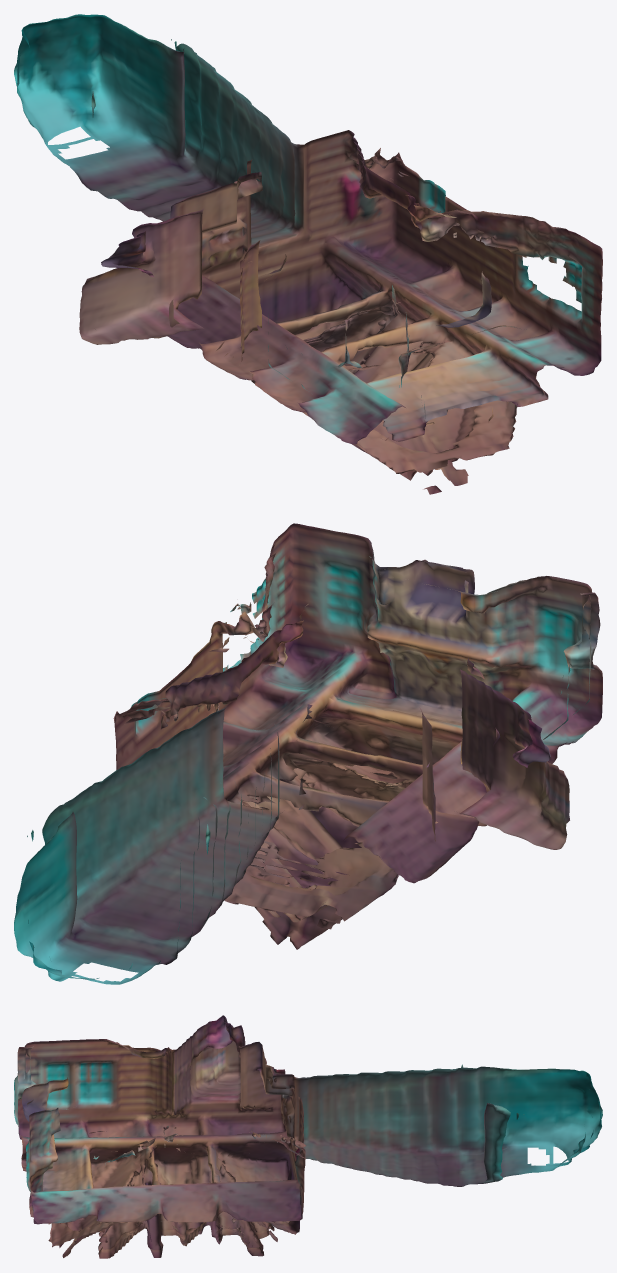
The model's file is collider.glb.
The picture shows the model from 3 angles, top to bottom: view 1: azimuth 30°, elevation 25°; view 2: azimuth 150°, elevation 25°; view 3: azimuth 270°, elevation 25°; orthographic projection. The views are drawn at different scales.
Visible parts, largest first — view 1: world; view 2: world; view 3: world.
Boxes of the visible parts, box(x1,y1,x2,y2) form: world: box(14, 14, 602, 494); world: box(14, 523, 602, 984); world: box(14, 1015, 602, 1258).
Size of the model in its own units: 4.99 by 2.9 by 9.04.
